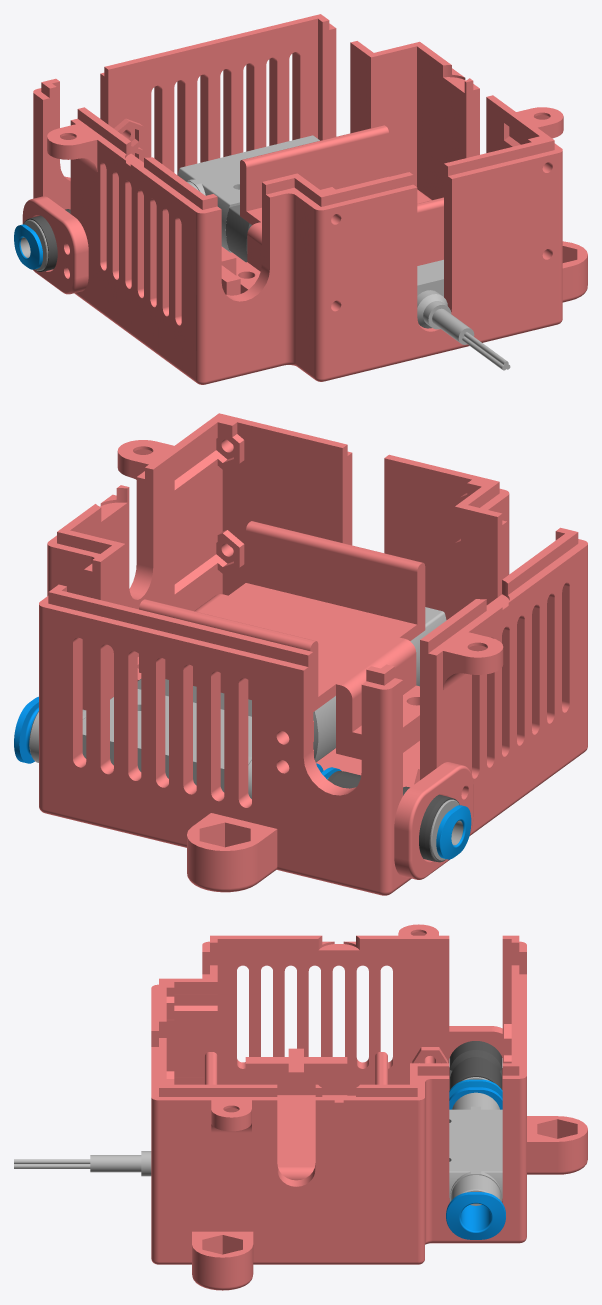
3 views of the same model, one above another, from view 1: azimuth 30°, elevation 25°; view 2: azimuth 150°, elevation 25°; view 3: azimuth 270°, elevation 25° (orthographic). The views are drawn at different scales.
Parts seen in each view (by area): view 1: actuator_mount_2_bottom-1 - Part, actuator_mount_2_holder-1 - Part, actuator_mount_2_nozzle_holder-2 - Part, _717990 MHJ10-S-K-QS-6.stp-1 - Part, _936192 MHJ10-MF.stp-1 - Part, _936192 MHJ10-MFstp-1 - Part 2, 153327_QSM_6_4-1 - Part 2, 153327_QSM_6_4-1 - Part, 153327_QSM_6_4-1 - Part 3; view 2: actuator_mount_2_bottom-1 - Part, actuator_mount_2_holder-1 - Part, actuator_mount_2_nozzle_holder-2 - Part, _717990 MHJ10-S-K-QS-6.stp-1 - Part, _936192 MHJ10-MF.stp-1 - Part, 153327_QSM_6_4-1 - Part 2, 153327_QSM_6_4-1 - Part, _172973 QSP10-6.stp-1 - Part, 153327_QSM_6_4-1 - Part 3; view 3: actuator_mount_2_bottom-1 - Part, actuator_mount_2_holder-1 - Part, _717990 MHJ10-S-K-QS-6.stp-1 - Part, _172973 QSP10-6.stp-1 - Part, _936192 MHJ10-MF.stp-1 - Part, 153327_QSM_6_4-1 - Part, actuator_mount_2_nozzle_holder-2 - Part, _172973 QSP10-6stp-1 - Part 3, _172973 QSP10-6stp-2 - Part 3, _172973 QSP10-6.stp-2 - Part.
Part boxes in pixels (x1,y1,x2,y2): actuator_mount_2_bottom-1 - Part: [33, 14, 587, 384]; actuator_mount_2_holder-1 - Part: [236, 125, 443, 293]; actuator_mount_2_nozzle_holder-2 - Part: [22, 196, 88, 294]; _717990 MHJ10-S-K-QS-6.stp-1 - Part: [177, 135, 319, 252]; _936192 MHJ10-MF.stp-1 - Part: [246, 223, 510, 370]; _936192 MHJ10-MFstp-1 - Part 2: [226, 205, 249, 262]; 153327_QSM_6_4-1 - Part 2: [14, 224, 42, 269]; 153327_QSM_6_4-1 - Part: [23, 209, 70, 271]; 153327_QSM_6_4-1 - Part 3: [20, 219, 48, 270]; actuator_mount_2_bottom-1 - Part: [39, 413, 587, 895]; actuator_mount_2_holder-1 - Part: [137, 521, 425, 759]; actuator_mount_2_nozzle_holder-2 - Part: [394, 762, 473, 879]; _717990 MHJ10-S-K-QS-6.stp-1 - Part: [82, 689, 251, 792]; _936192 MHJ10-MF.stp-1 - Part: [314, 607, 446, 762]; 153327_QSM_6_4-1 - Part 2: [321, 767, 471, 859]; 153327_QSM_6_4-1 - Part: [327, 771, 459, 862]; _172973 QSP10-6.stp-1 - Part: [14, 696, 38, 763]; 153327_QSM_6_4-1 - Part 3: [327, 777, 463, 861]; actuator_mount_2_bottom-1 - Part: [151, 924, 587, 1290]; actuator_mount_2_holder-1 - Part: [204, 1052, 387, 1180]; _717990 MHJ10-S-K-QS-6.stp-1 - Part: [449, 1106, 502, 1201]; _172973 QSP10-6.stp-1 - Part: [446, 1192, 505, 1239]; _936192 MHJ10-MF.stp-1 - Part: [14, 1151, 151, 1176]; 153327_QSM_6_4-1 - Part: [449, 1041, 502, 1089]; actuator_mount_2_nozzle_holder-2 - Part: [426, 1026, 502, 1059]; _172973 QSP10-6stp-1 - Part 3: [451, 1175, 500, 1205]; _172973 QSP10-6stp-2 - Part 3: [452, 1092, 499, 1109]; _172973 QSP10-6.stp-2 - Part: [449, 1087, 502, 1109].
Size of the model in its own units: 0.0938 by 0.038 by 0.1128.
